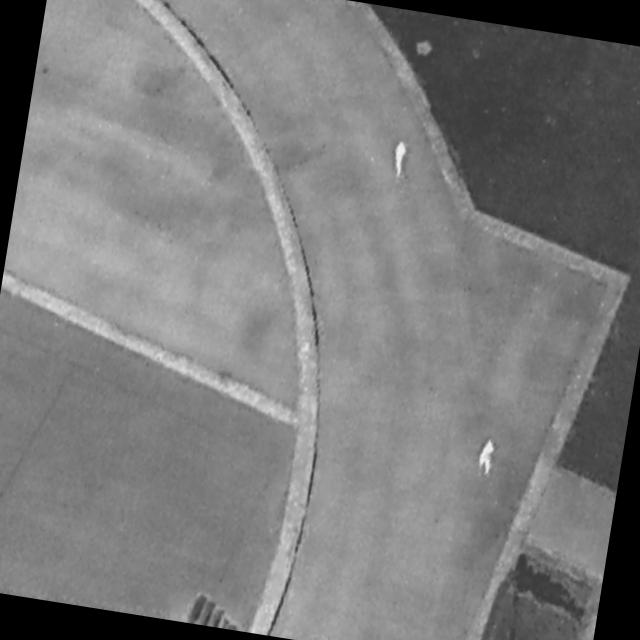person: (389, 140, 412, 182), (477, 437, 499, 478)
